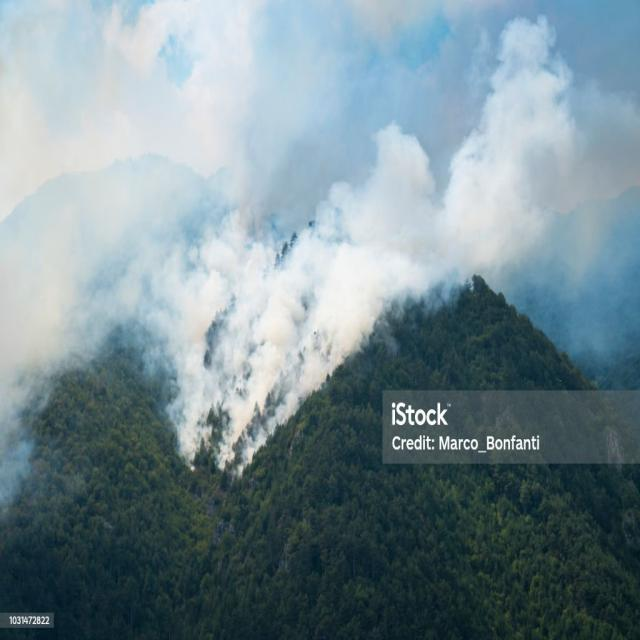Smoke: (0, 14, 572, 389)
